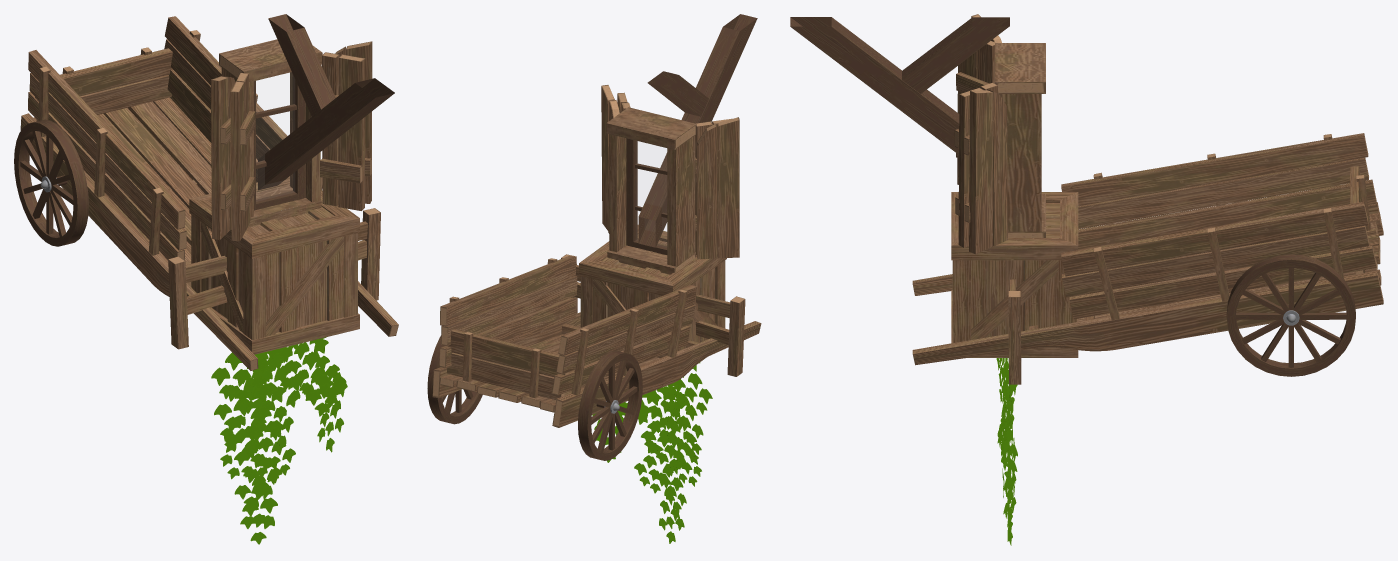
File: kit-library.glb
The picture shows the model from 3 angles, left to right: view 1: azimuth 30°, elevation 25°; view 2: azimuth 150°, elevation 25°; view 3: azimuth 270°, elevation 25°; orthographic projection. The views are drawn at different scales.
Parts seen in each view (by area): view 1: Prop_Wagon, Prop_Crate, Prop_Vine1, Prop_Support, WindowShutters_Thin_Flat_Open, Window_Thin_Flat1, Prop_WoodenFence_Single, WindowShutters_Thin_Round_Open, Prop_Vine4; view 2: Prop_Wagon, Window_Thin_Flat1, WindowShutters_Thin_Round_Open, Prop_Crate, Prop_Support, Prop_Vine1, Prop_WoodenFence_Single, Prop_Vine4, WindowShutters_Thin_Flat_Open; view 3: Prop_Wagon, Prop_Crate, Prop_Support, Window_Thin_Flat1, WindowShutters_Thin_Round_Open, WindowShutters_Thin_Flat_Open, Prop_Vine1, Prop_WoodenFence_Single.
Part boxes in pixels (x1,y1,x2,y2): Prop_Wagon: (14,16,398,370); Prop_Crate: (189,176,359,354); Prop_Vine1: (211,337,347,544); Prop_Support: (258,14,394,190); WindowShutters_Thin_Flat_Open: (230,52,365,241); Window_Thin_Flat1: (219,39,322,227); Prop_WoodenFence_Single: (168,208,380,349); WindowShutters_Thin_Round_Open: (211,41,372,239); Prop_Vine4: (235,345,293,425); Prop_Wagon: (427,255,761,460); Window_Thin_Flat1: (606,107,696,274); WindowShutters_Thin_Round_Open: (601,85,739,259); Prop_Crate: (579,224,726,363); Prop_Support: (638,14,757,247); Prop_Vine1: (592,362,712,543); Prop_WoodenFence_Single: (561,254,745,376); Prop_Vine4: (657,368,693,443); WindowShutters_Thin_Flat_Open: (617,92,732,254); Prop_Wagon: (912,133,1383,376); Prop_Crate: (951,192,1078,357); Prop_Support: (790,17,1009,154); Window_Thin_Flat1: (995,43,1045,237); WindowShutters_Thin_Round_Open: (964,14,1007,253); WindowShutters_Thin_Flat_Open: (954,41,997,247); Prop_Vine1: (996,358,1017,545); Prop_WoodenFence_Single: (1008,279,1021,384).
Bounding box in the file's own units: 2.06 × 5.04 × 5.07.
3 materials, 2 textured.
